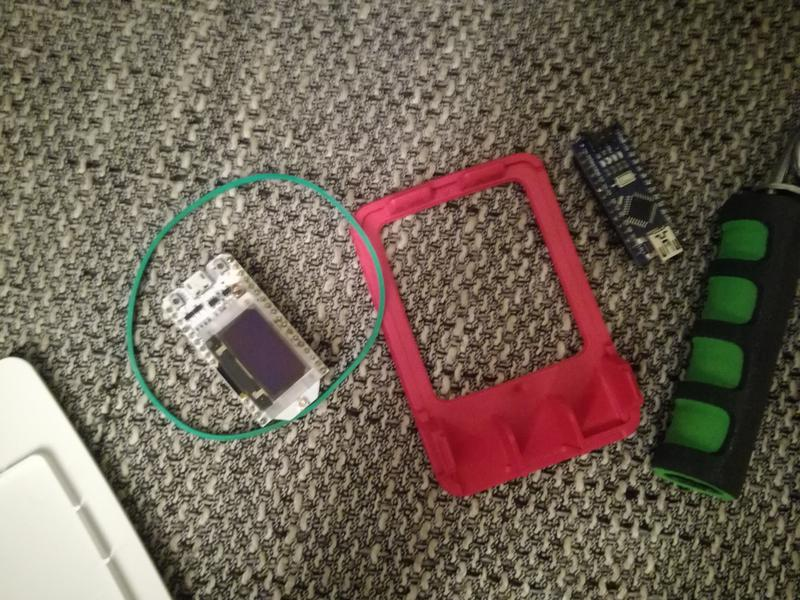Arduino_Nano: (569, 121, 691, 267)
Heltec_ESP32_Lora: (158, 247, 328, 430)
